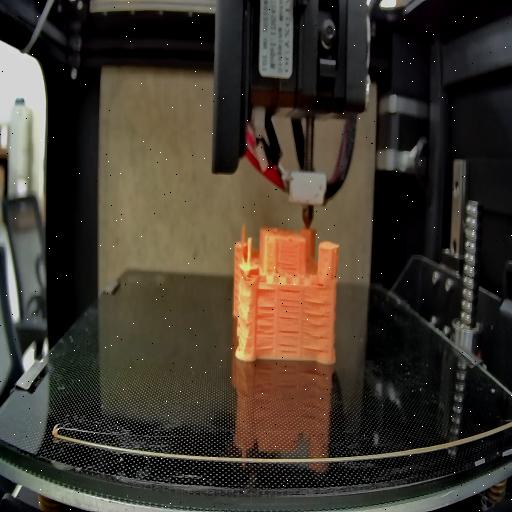cracks: (304, 300, 328, 356), (254, 300, 276, 354), (277, 290, 299, 324), (277, 326, 298, 358), (310, 280, 328, 288), (278, 263, 296, 271), (256, 288, 276, 294)
